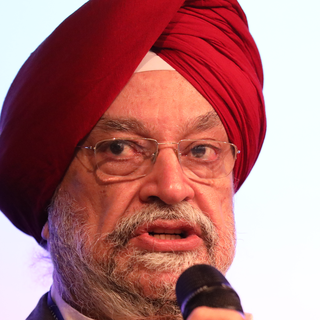eye: (180, 141, 223, 164)
